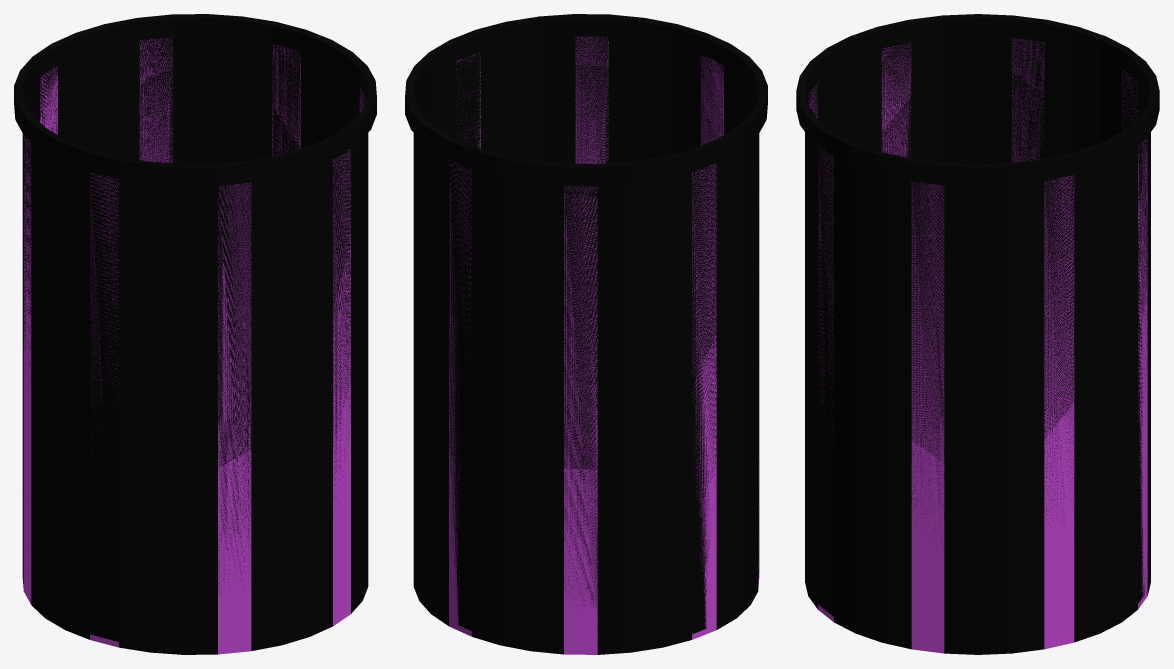
The model's file is bin (1).fbx.
3 views of the same model, side by side, from view 1: azimuth 30°, elevation 25°; view 2: azimuth 150°, elevation 25°; view 3: azimuth 270°, elevation 25° (orthographic).
Visible parts, largest first — view 1: Cylinder; view 2: Cylinder; view 3: Cylinder.
Part boxes in pixels (left/top/right/bottom): Cylinder: left=14, top=14, right=376, bottom=654; Cylinder: left=405, top=14, right=767, bottom=654; Cylinder: left=796, top=14, right=1159, bottom=654.
Bounding box in the file's own units: 187 × 279 × 187.
